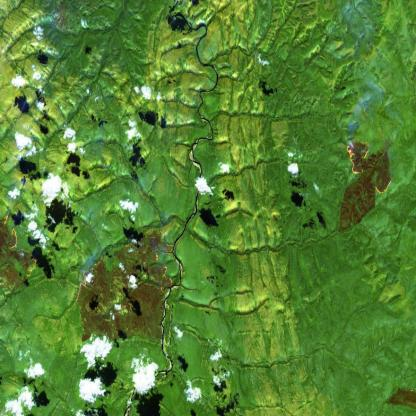fire: (0, 202, 36, 279), (144, 221, 178, 299), (73, 254, 96, 315)
